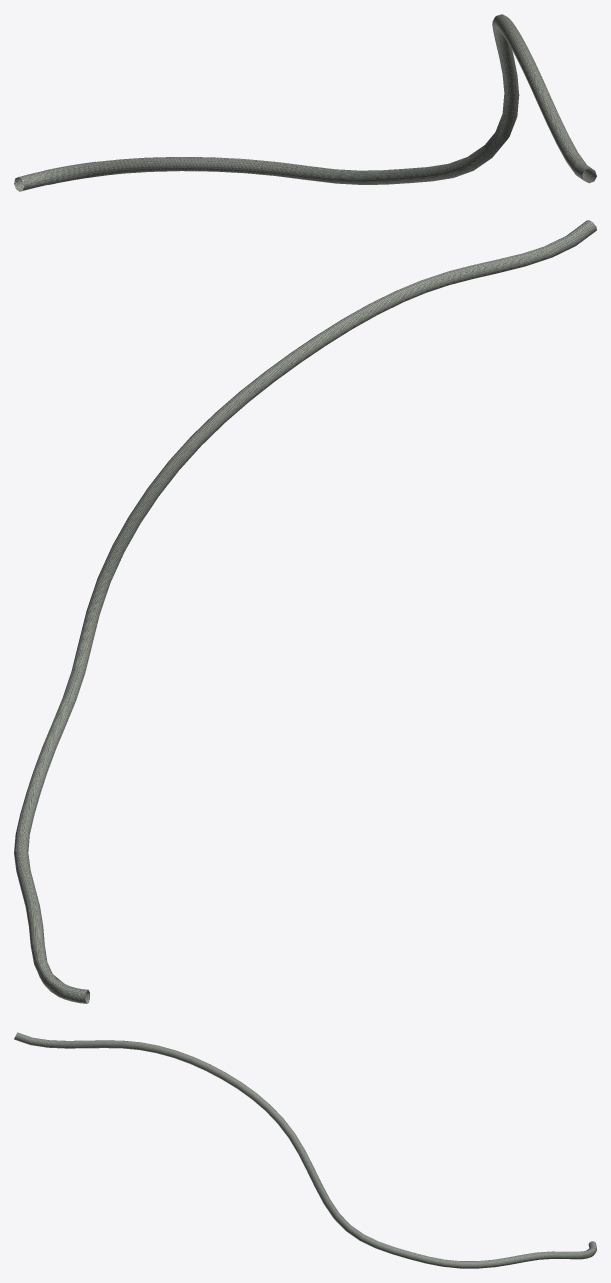
The model's file is microtubule5.fbx.
The picture shows the model from 3 angles, top to bottom: view 1: azimuth 30°, elevation 25°; view 2: azimuth 150°, elevation 25°; view 3: azimuth 270°, elevation 25°; orthographic projection. The views are drawn at different scales.
Visible parts, largest first — view 1: microtubule5; view 2: microtubule5; view 3: microtubule5.
Part boxes in pixels (x1,y1,x2,y2): microtubule5: [14, 14, 596, 191]; microtubule5: [14, 220, 596, 1003]; microtubule5: [14, 1032, 596, 1268].
Bounding box in the file's own units: 2803 × 4684 × 10993.
1 material, 1 textured.
